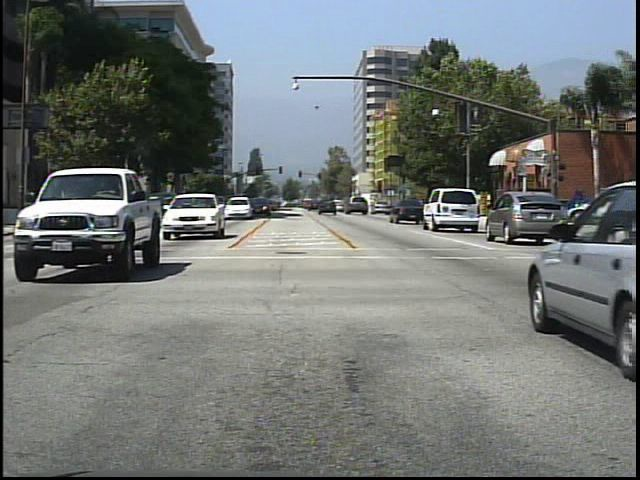person: (493, 189, 513, 228), (455, 192, 473, 228)
